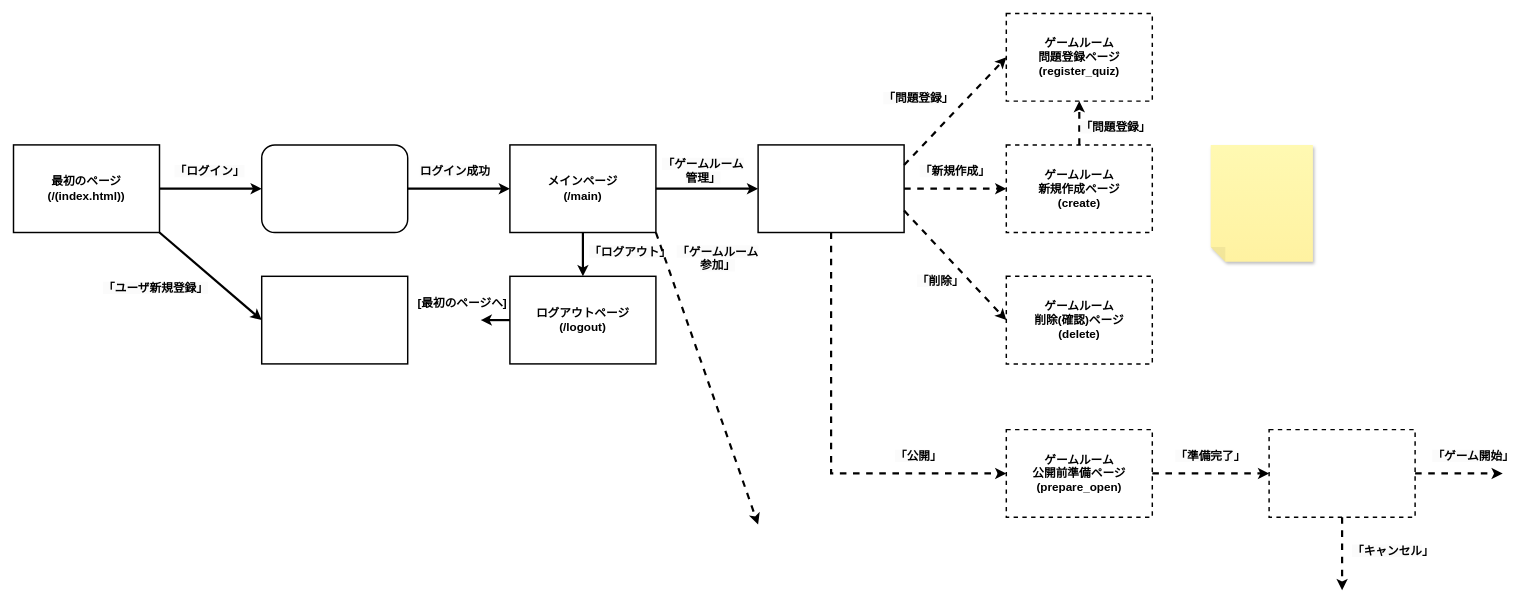
Some shapes in this 1537 by 610 pixel diagram are drawn without their labels. The centre of each missing label's shape, as x and y in pixels:
"ゲームルーム 開始前(待機)ページ ()" goes at (1341,473).
"ゲームルーム管理ページ (gameroom)" goes at (830,188).
"ユーザログインページ (/login)" goes at (334,188).
"ユーザ新規登録ページ (/register_useracc)" goes at (334,319).
